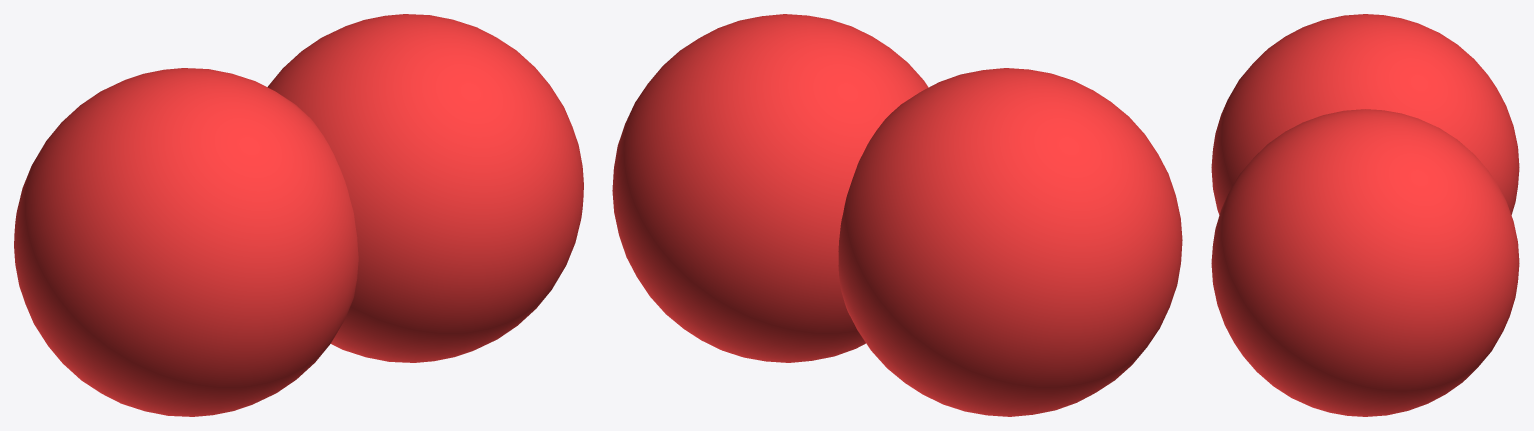
The picture shows the model from 3 angles, left to right: view 1: azimuth 30°, elevation 25°; view 2: azimuth 150°, elevation 25°; view 3: azimuth 270°, elevation 25°; orthographic projection. The views are drawn at different scales.
Visible parts, largest first — view 1: O_Atom, O_Atom_1; view 2: O_Atom, O_Atom_1; view 3: O_Atom_1, O_Atom.
Part boxes in pixels (bbox=[...]): O_Atom: bbox=[14, 68, 358, 416]; O_Atom_1: bbox=[267, 14, 583, 362]; O_Atom: bbox=[838, 68, 1182, 416]; O_Atom_1: bbox=[612, 14, 928, 362]; O_Atom_1: bbox=[1211, 109, 1519, 416]; O_Atom: bbox=[1211, 14, 1519, 214].
Size of the model in its own units: 2.63 by 1.52 by 1.52.
